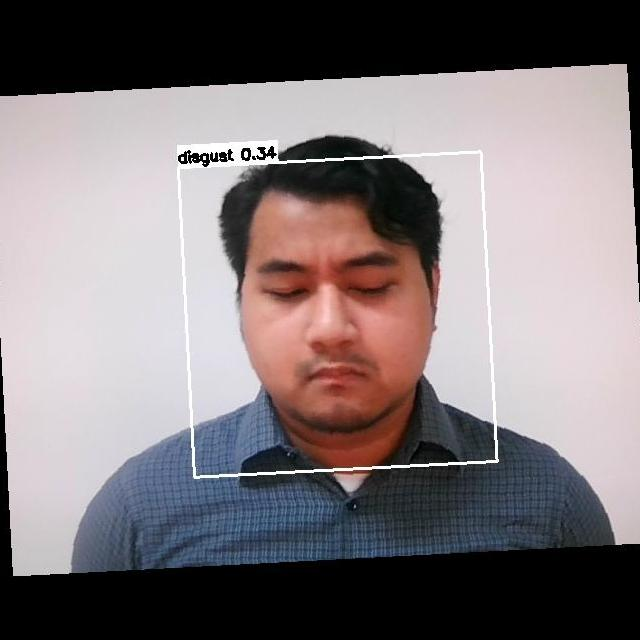Angry: (244, 234, 415, 394)
